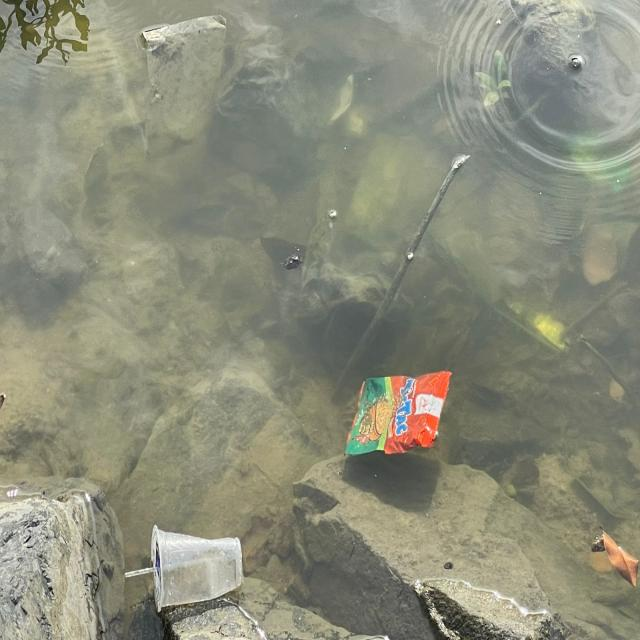Bungkus Makanan: (343, 370, 458, 470)
Bungkus Minuman: (121, 519, 252, 616)
